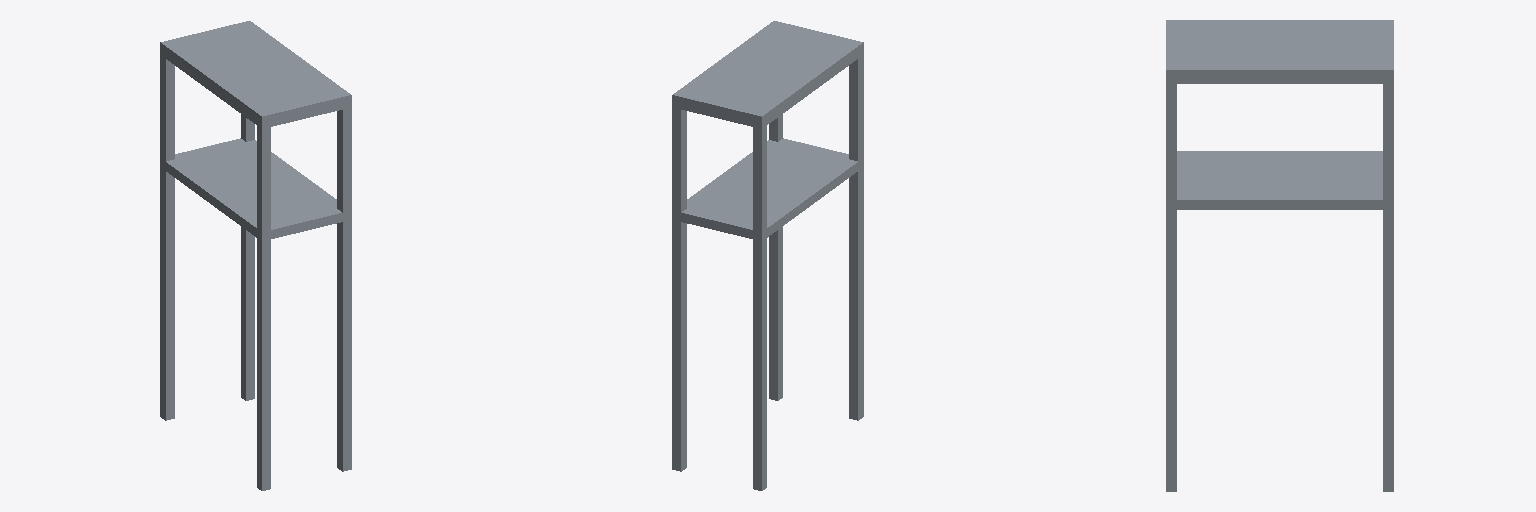
robot.urdf — stirfry_stage_300x620:
<?xml version="1.0"?>
<!-- Converted from stirfry_stage_300x620.step. Source axes already use XY floor and Z up. -->
<robot name="stirfry_stage_300x620">
  <material name="stainless"><color rgba="0.62 0.65 0.68 1.0"/></material>
  <link name="base_link">
    <inertial>
      <origin xyz="0 0 0.6"/>
      <mass value="30.0"/>
      <inertia ixx="4.47025" ixy="0" ixz="0" iyy="3.825" iyz="0" izz="1.09525"/>
    </inertial>
    <visual>
      <geometry><mesh filename="meshes/stirfry_stage_300x620.stl" scale="1 1 1"/></geometry>
      <material name="stainless"/>
    </visual>
    <collision name="top"><origin xyz="0 0 1.18"/><geometry><box size="0.30 0.59 0.04"/></geometry></collision>
    <collision name="middle"><origin xyz="0 0 0.815"/><geometry><box size="0.30 0.59 0.03"/></geometry></collision>
    <collision name="leg_pp"><origin xyz="0.135 0.280 0.58"/><geometry><box size="0.03 0.03 1.16"/></geometry></collision>
    <collision name="leg_pn"><origin xyz="0.135 -0.280 0.58"/><geometry><box size="0.03 0.03 1.16"/></geometry></collision>
    <collision name="leg_np"><origin xyz="-0.135 0.280 0.58"/><geometry><box size="0.03 0.03 1.16"/></geometry></collision>
    <collision name="leg_nn"><origin xyz="-0.135 -0.280 0.58"/><geometry><box size="0.03 0.03 1.16"/></geometry></collision>
  </link>
</robot>

--- Facts derived from the render (not from the file) ---
The picture shows the robot from 3 angles, left to right: view 1: azimuth 30°, elevation 25°; view 2: azimuth 150°, elevation 25°; view 3: azimuth 270°, elevation 25°; orthographic projection.
Robot: stirfry_stage_300x620 — 1 links, 0 joints (none); root link base_link; default pose: all joints at 0.
Links seen in each view (by area): view 1: base_link; view 2: base_link; view 3: base_link.
Boxes of the visible links, x1=… form: base_link: x1=160, y1=21, x2=351, y2=490; base_link: x1=672, y1=21, x2=863, y2=490; base_link: x1=1166, y1=20, x2=1393, y2=491.
Bounding box of the posed robot: 0.3 × 0.59 × 1.2 m (x, y, z).
1 mesh visuals loaded from 1 distinct referenced files (1 binary STL).
